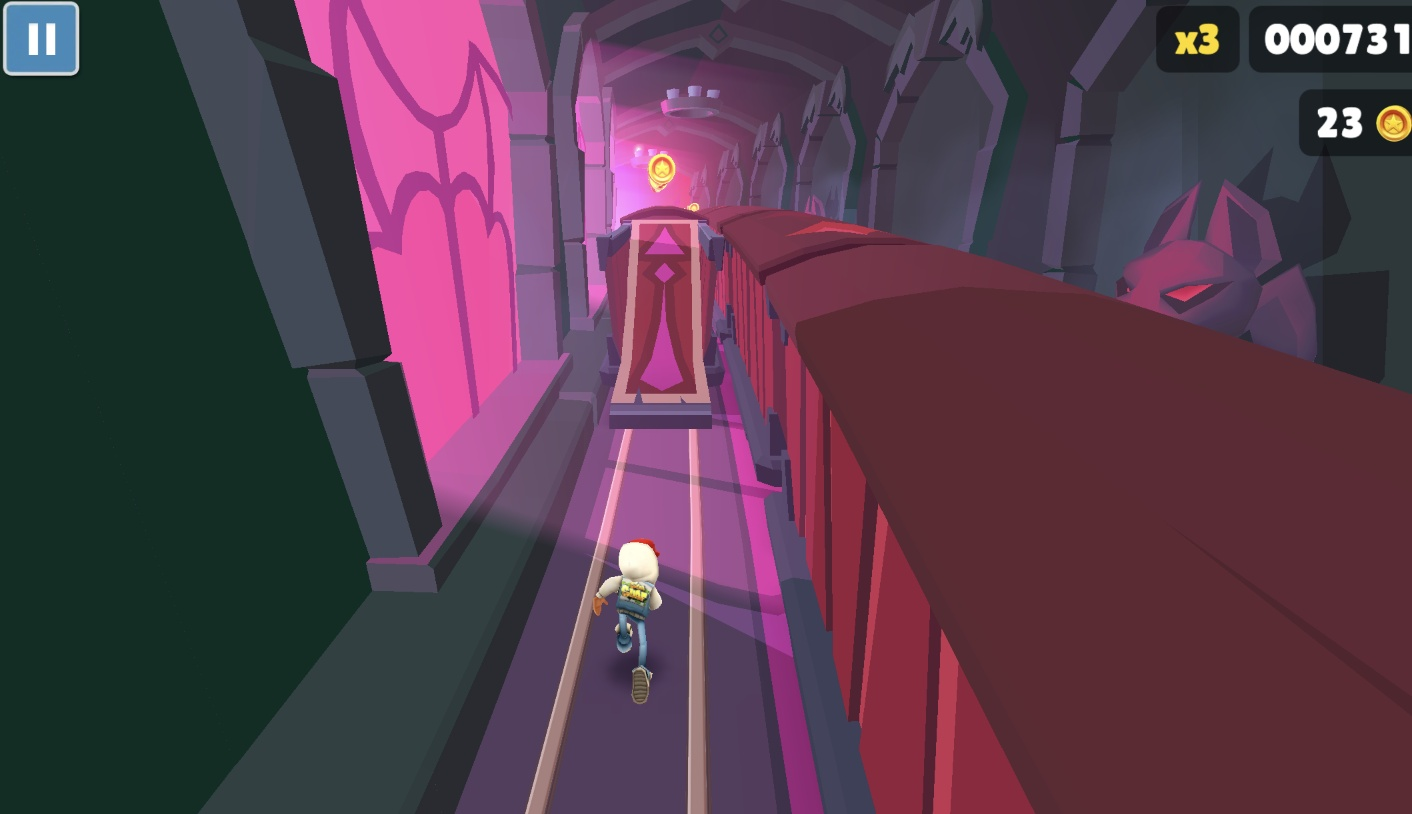train: (693, 209, 1412, 814), (595, 206, 726, 433)
